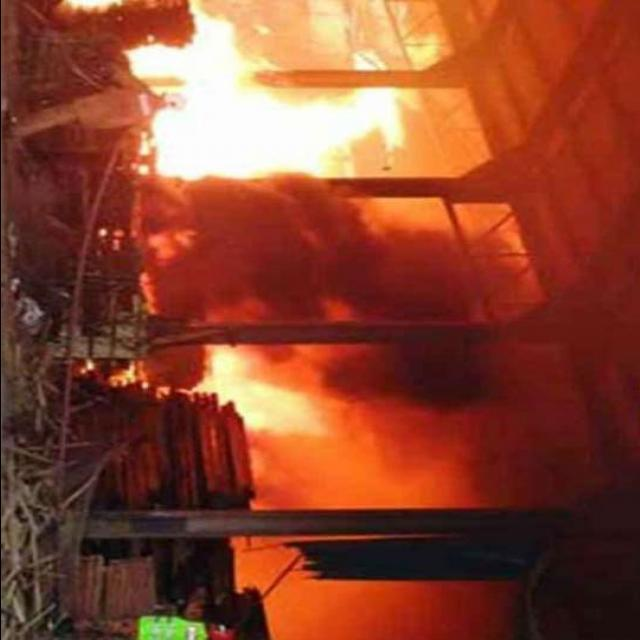Fire: (142, 11, 396, 185), (174, 332, 364, 439)
